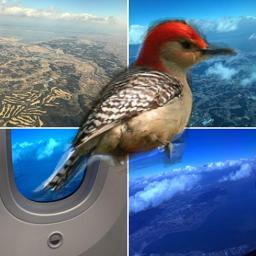Woodpecker: (31, 16, 241, 198)
